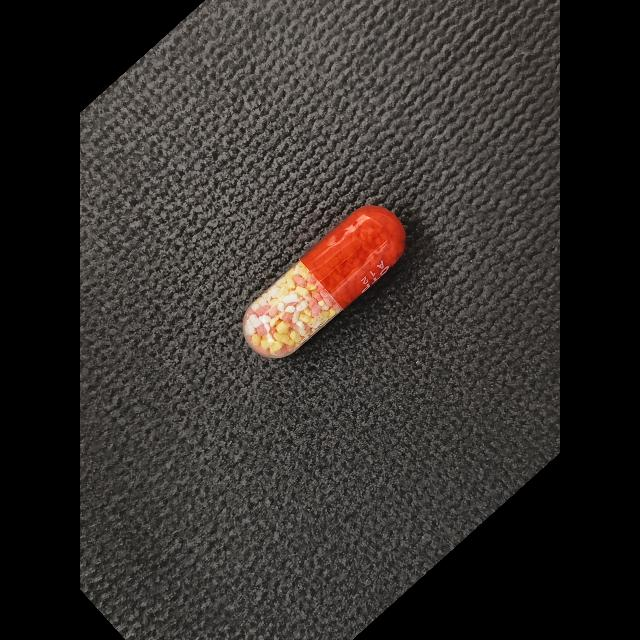Intact Capsule: (242, 205, 406, 358)
